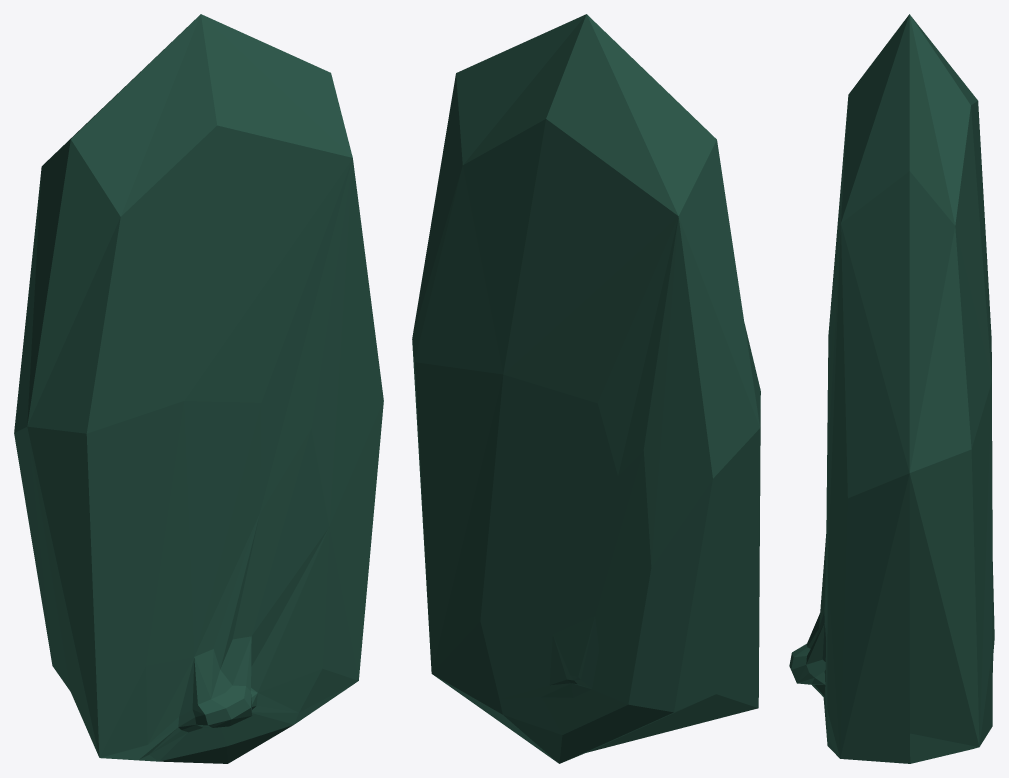
3 views of the same model, side by side, from view 1: azimuth 30°, elevation 25°; view 2: azimuth 150°, elevation 25°; view 3: azimuth 270°, elevation 25° (orthographic).
Visible parts, largest first — view 1: 376_Cube.1532; view 2: 376_Cube.1532; view 3: 376_Cube.1532.
Boxes of the visible parts, x1,y1,x2,y2 form: 376_Cube.1532: (14,14,383,763); 376_Cube.1532: (412,14,760,763); 376_Cube.1532: (789,14,994,763).
Bounding box in the file's own units: 5.91 × 11.99 × 2.97.
